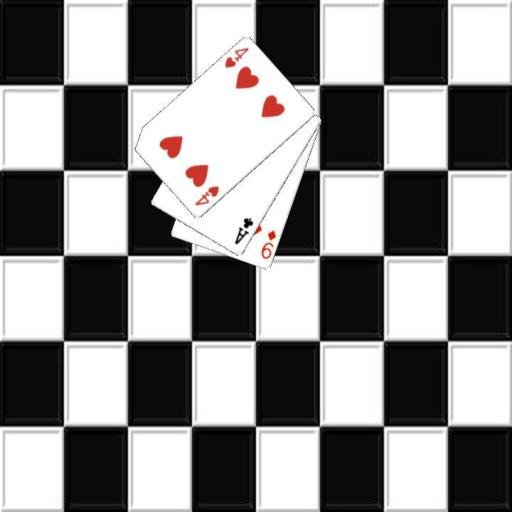4H: (192, 183, 221, 208), (221, 45, 250, 70)
9D: (258, 227, 278, 261)
AC: (231, 215, 255, 246)
